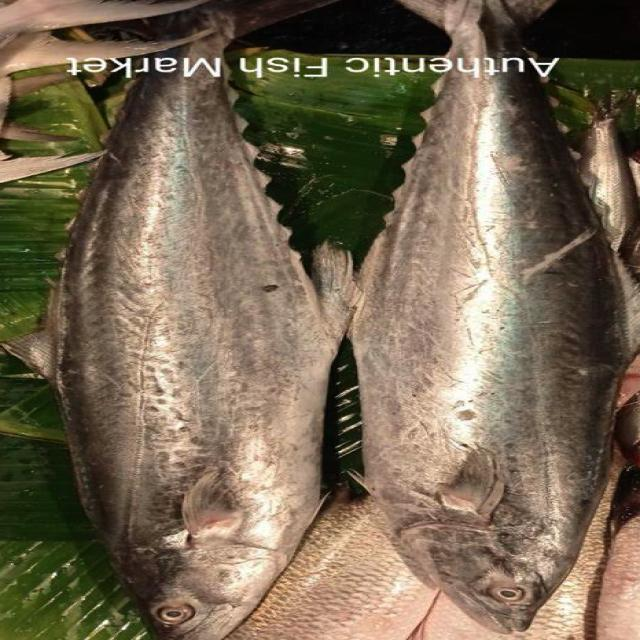seer: (53, 0, 351, 640), (346, 0, 640, 634)
